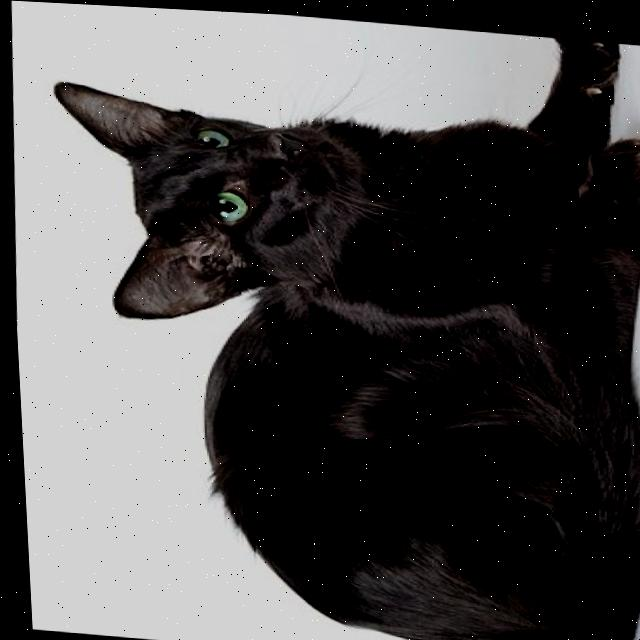Oriental: (21, 1, 640, 640)
